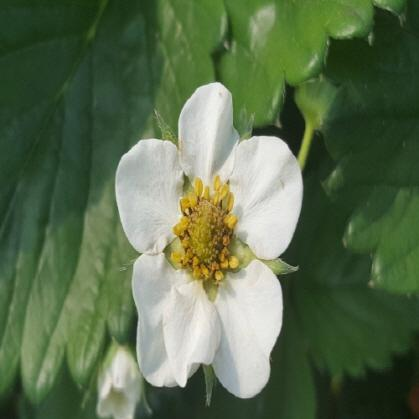Blossom Blight: (167, 172, 241, 286)
